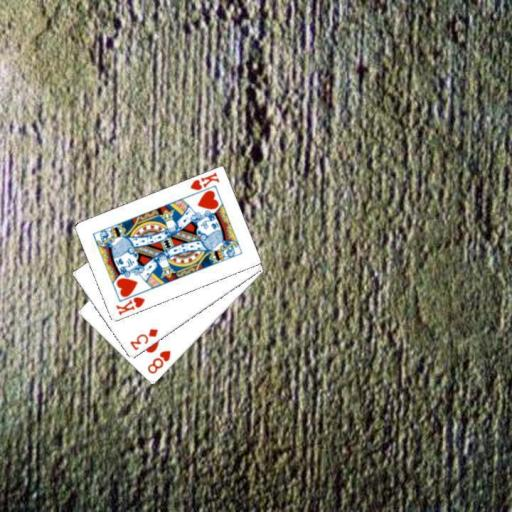card-corner: (127, 326, 159, 352), (112, 294, 146, 317), (186, 169, 220, 192), (144, 348, 172, 375)
